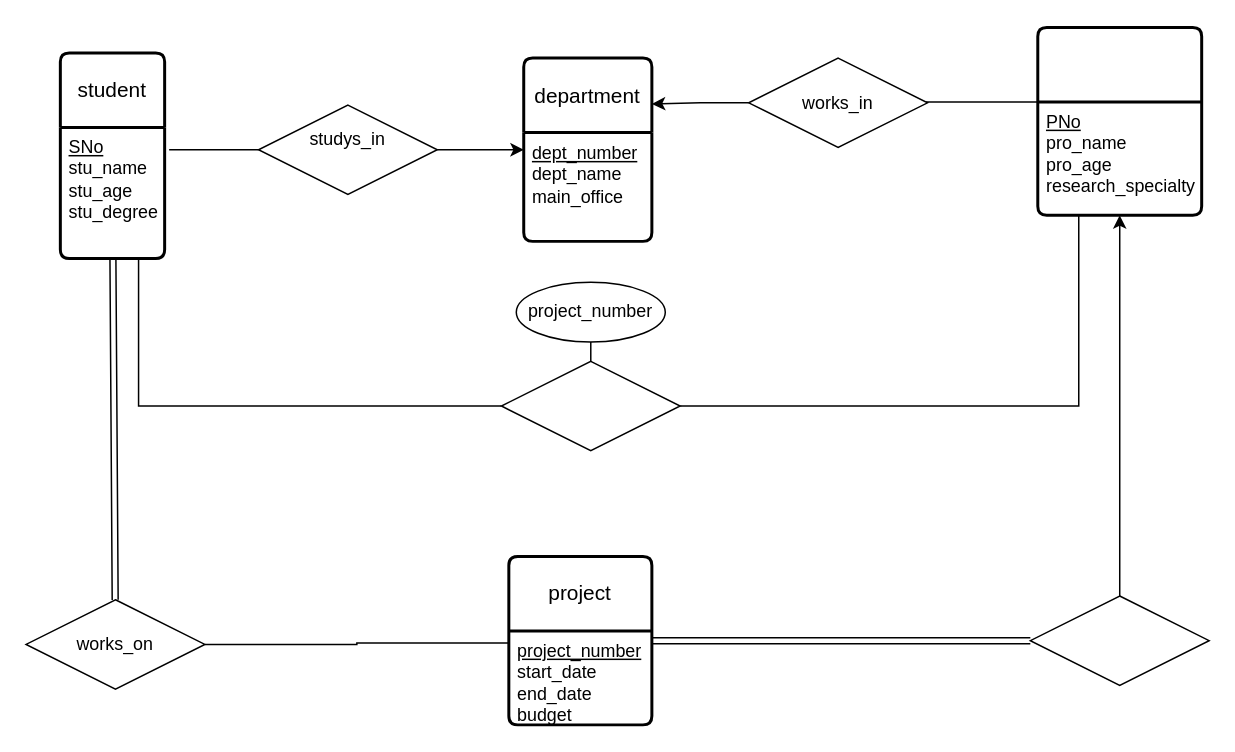
The diagram is 1235 pixels wide and 752 high, and some of its shapes have lost their labels. The box of each missing label's shape, as (x1, y1, x2, y2) in pixels:
manage: (1029, 595, 1209, 685)
professor: (1036, 25, 1202, 216)
supervise: (500, 360, 680, 451)
